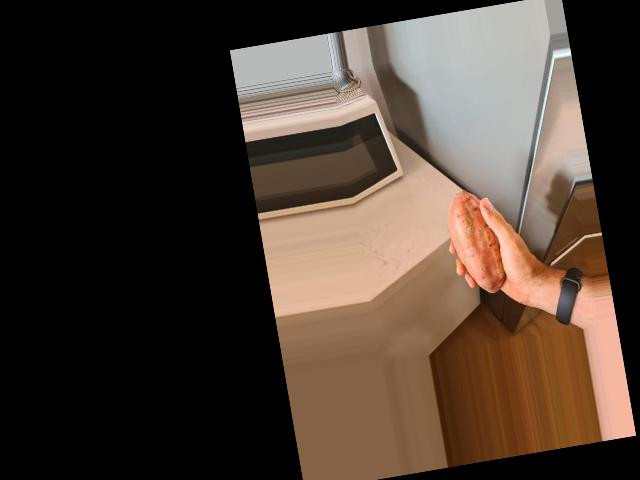sweet_potato: (444, 184, 511, 299)
